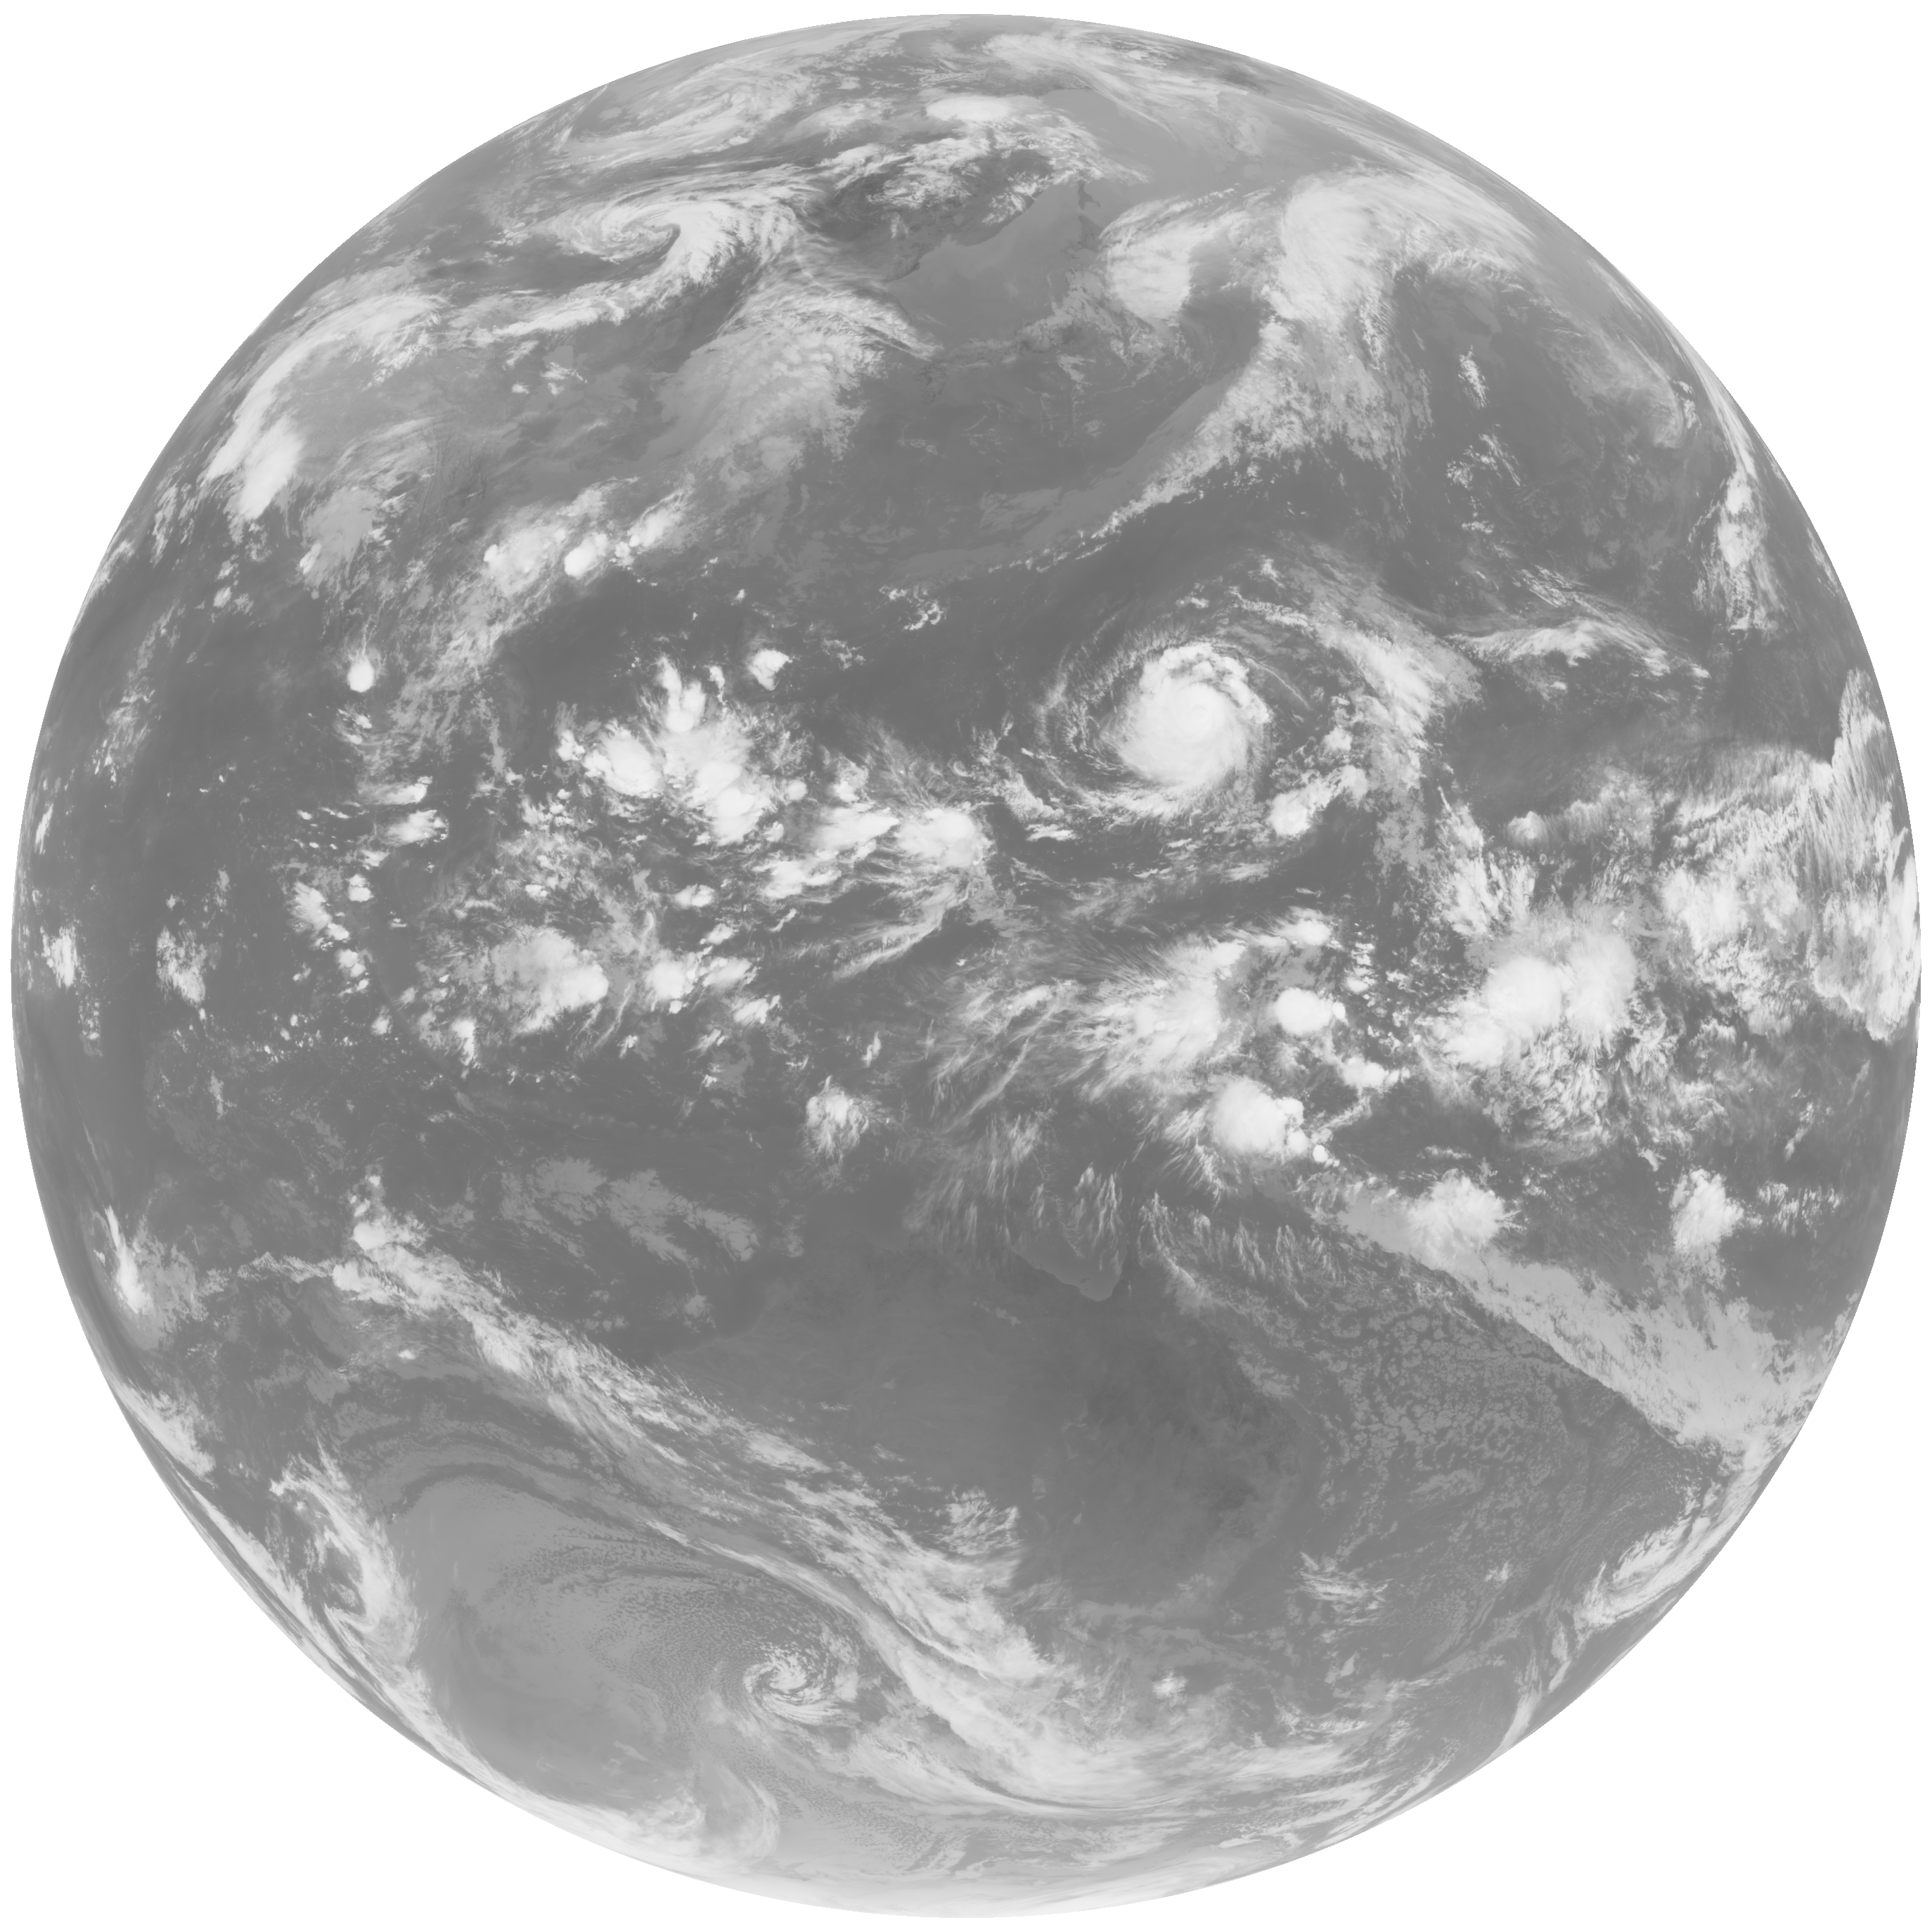typhoon: (957, 563, 1405, 893)
